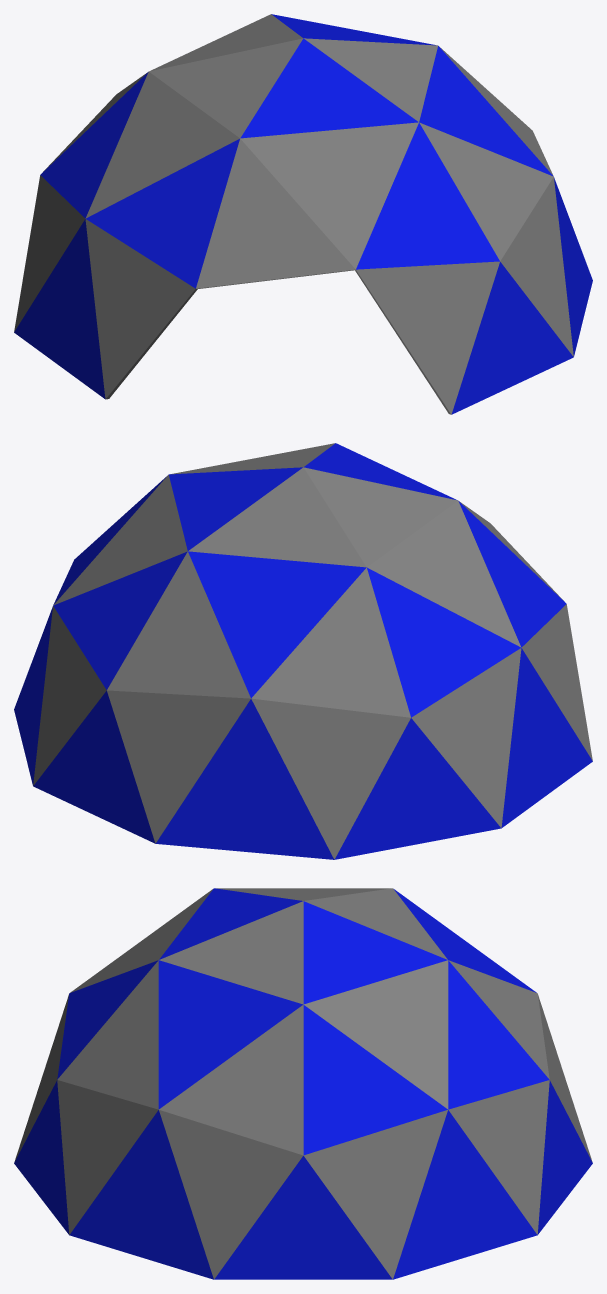
Rendered from Tent.fbx.
3 renders of one model, top to bottom at view 1: azimuth 30°, elevation 25°; view 2: azimuth 150°, elevation 25°; view 3: azimuth 270°, elevation 25°, orthographic. The views are drawn at different scales.
Parts seen in each view (by area): view 1: Tent; view 2: Tent; view 3: Tent.
Part boxes in pixels (box(x1,y1,x2,y2)): Tent: box(14, 14, 592, 414); Tent: box(14, 443, 592, 859); Tent: box(14, 888, 592, 1279).
Bounding box in the file's own units: 951 × 502 × 1000.
